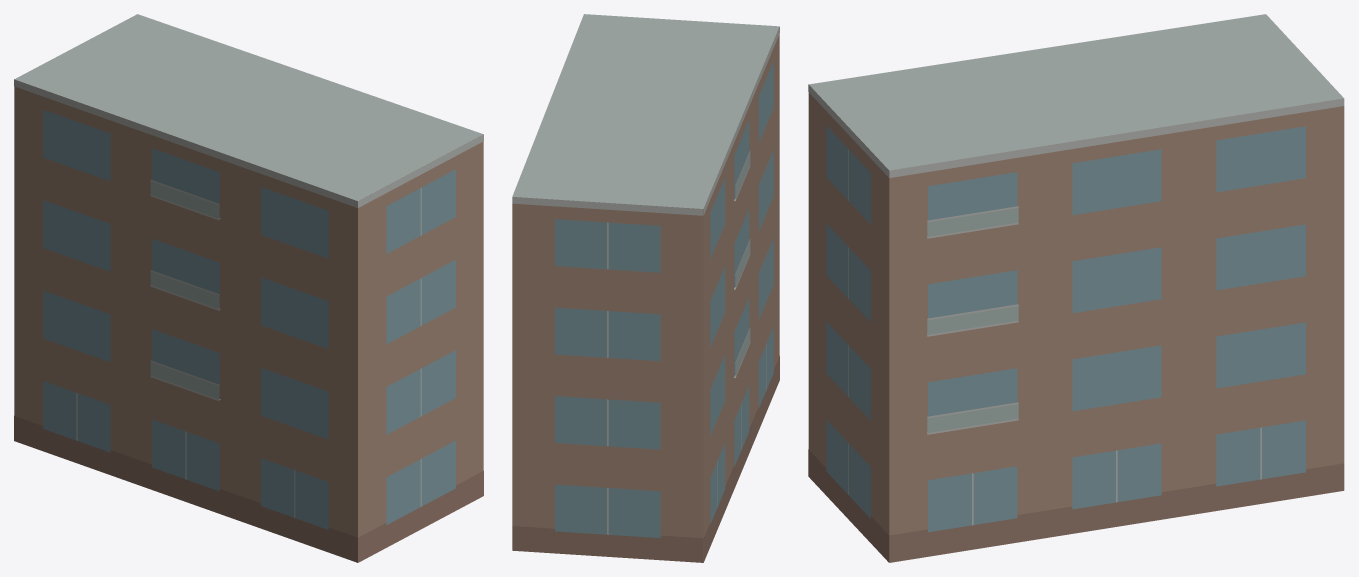
Rendered from survey-upis-33039191.glb.
3 renders of one model, left to right at view 1: azimuth 30°, elevation 25°; view 2: azimuth 150°, elevation 25°; view 3: azimuth 270°, elevation 25°, orthographic. The views are drawn at different scales.
Visible parts, largest first — view 1: survey-upis-33039191.tmp; view 2: survey-upis-33039191.tmp; view 3: survey-upis-33039191.tmp.
Part boxes in pixels (<box>): survey-upis-33039191.tmp: <box>14,14,483,562</box>; survey-upis-33039191.tmp: <box>512,14,779,562</box>; survey-upis-33039191.tmp: <box>808,14,1344,562</box>.
Bounding box in the file's own units: 10.89 × 12.7 × 15.73.
